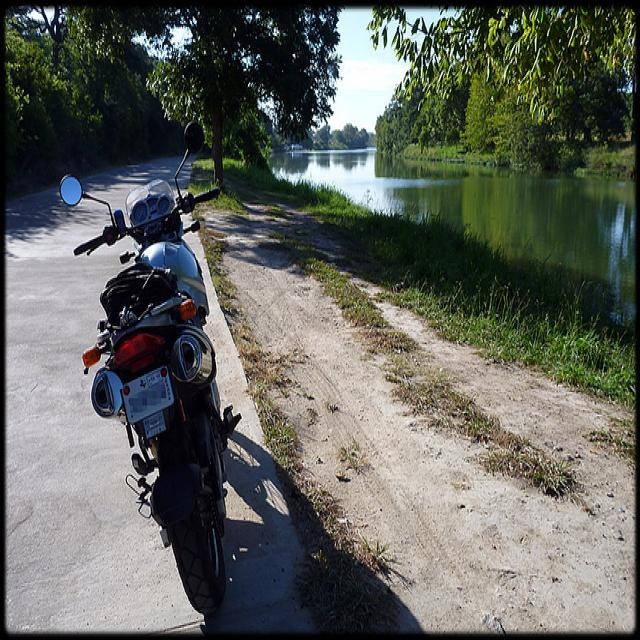motor: (62, 125, 235, 613)
